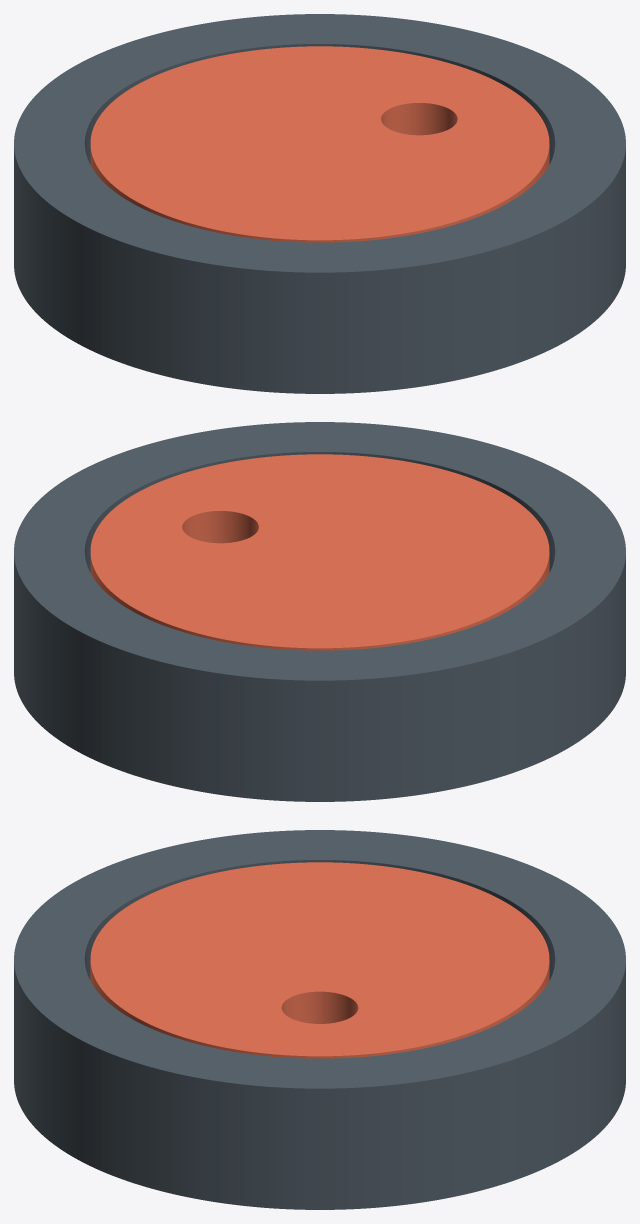
File: assembly.glb
The picture shows the model from 3 angles, top to bottom: view 1: azimuth 30°, elevation 25°; view 2: azimuth 150°, elevation 25°; view 3: azimuth 270°, elevation 25°; orthographic projection.
Visible parts, largest first — view 1: holder, token; view 2: holder, token; view 3: holder, token.
Part boxes in pixels (x1=…): holder: x1=14, y1=14, x2=625, y2=393; token: x1=90, y1=46, x2=549, y2=242; holder: x1=14, y1=422, x2=625, y2=801; token: x1=90, y1=454, x2=549, y2=650; holder: x1=14, y1=830, x2=625, y2=1209; token: x1=90, y1=862, x2=549, y2=1058.
Bounding box in the file's own units: 0.032 × 0.007 × 0.032.
